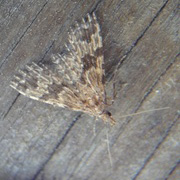Alucitidae: (8, 8, 170, 171)
moth: (10, 10, 172, 173)
